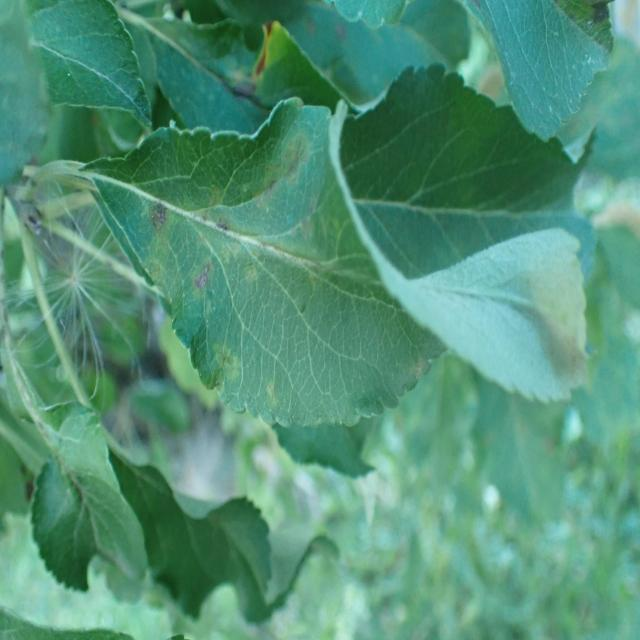scab: (102, 121, 381, 359)
